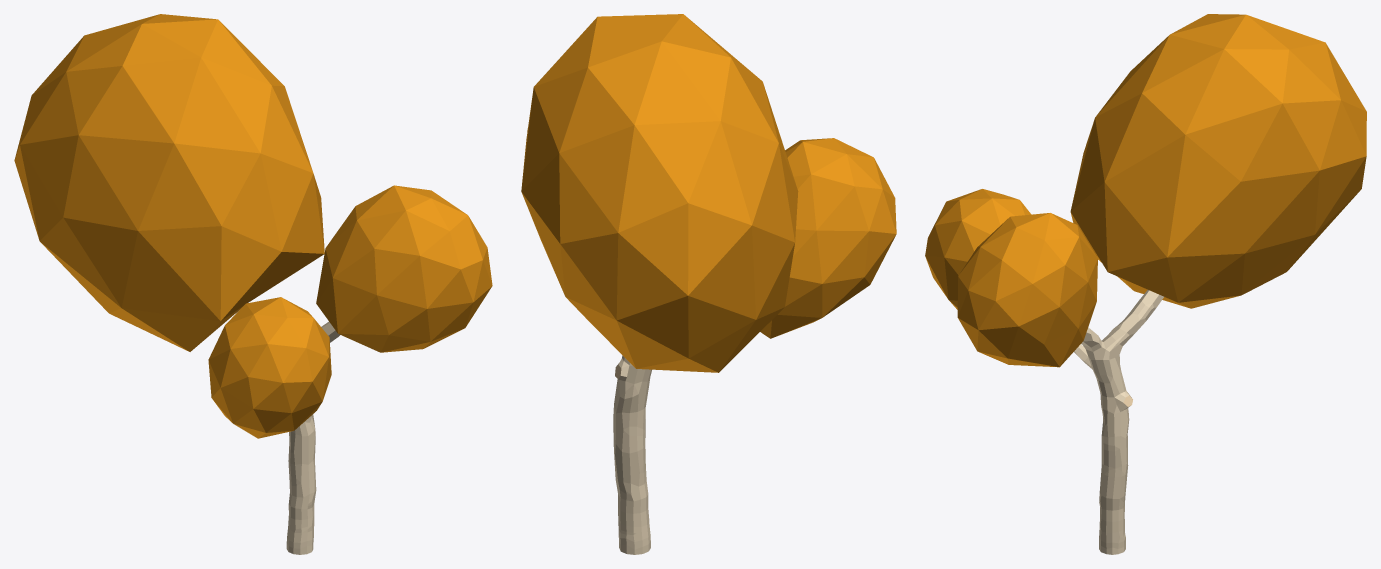
File: Oak2.fbx
3 renders of one model, left to right at view 1: azimuth 30°, elevation 25°; view 2: azimuth 150°, elevation 25°; view 3: azimuth 270°, elevation 25°, orthographic. The views are drawn at different scales.
Parts seen in each view (by area): view 1: Circle.001; view 2: Circle.001, Circle.002; view 3: Circle.001.
Part boxes in pixels (x1,y1,x2,y2): Circle.001: [14, 14, 492, 542]; Circle.001: [521, 14, 896, 541]; Circle.002: [618, 534, 650, 554]; Circle.001: [925, 14, 1366, 543].
Size of the model in its own units: 3814 by 5627 by 4587.
